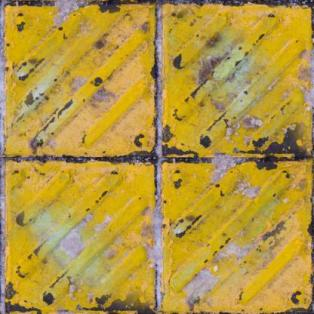Podoctatil: (5, 7, 312, 309)
